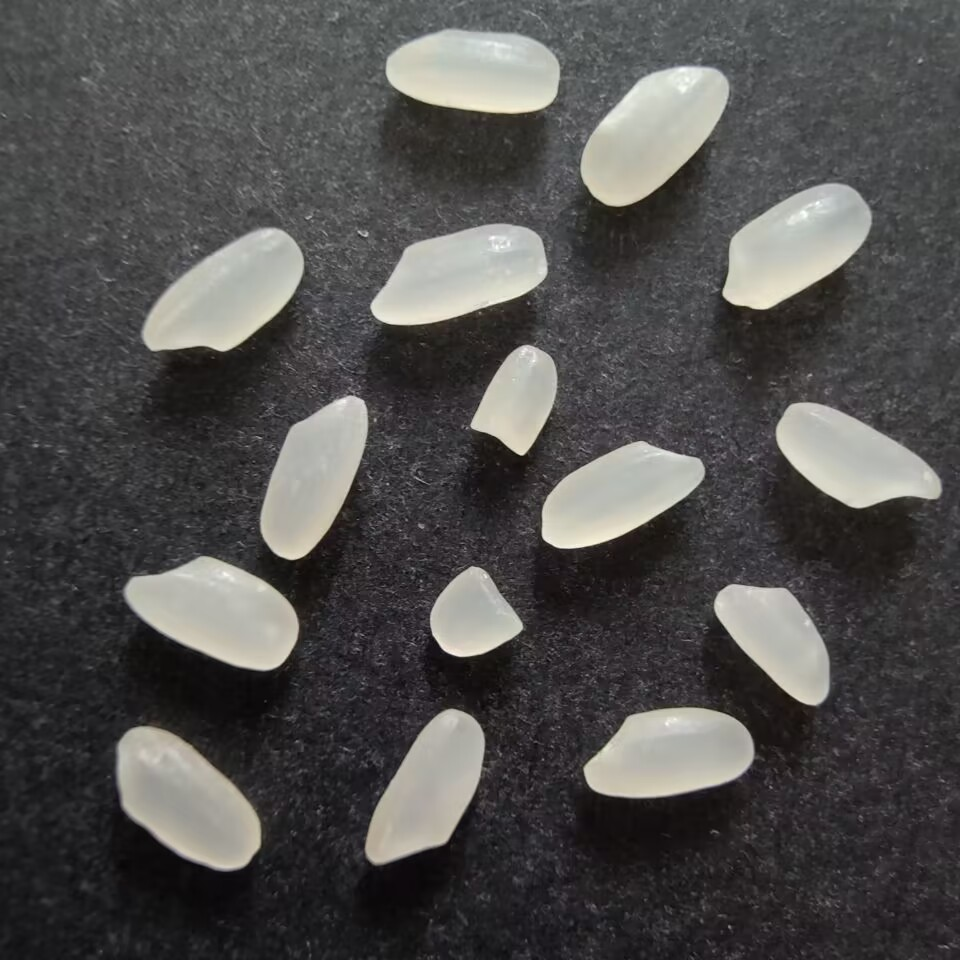broken: (466, 342, 562, 458), (426, 560, 527, 658)
rice: (105, 721, 261, 876), (136, 223, 307, 361), (577, 61, 731, 209), (359, 705, 493, 870), (119, 554, 302, 673), (714, 177, 872, 312), (537, 436, 707, 554), (366, 222, 550, 331), (773, 397, 942, 512), (260, 390, 371, 560), (583, 704, 754, 803), (383, 26, 564, 116), (713, 577, 834, 707)
